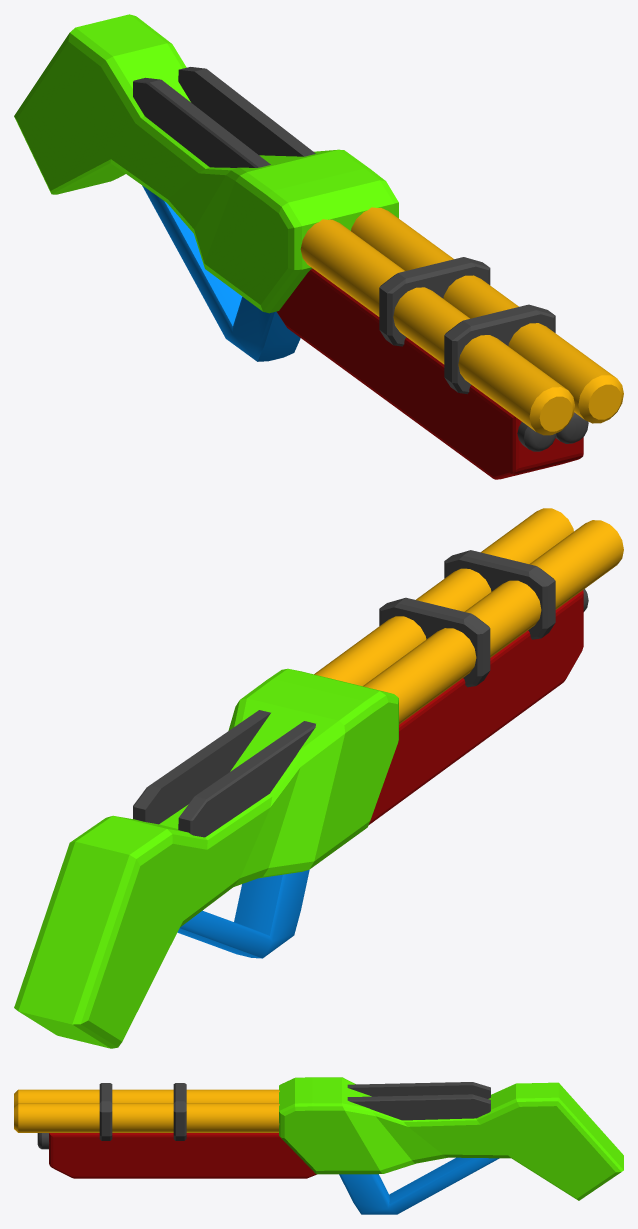
File: shotgoun.fbx
3 views of the same model, one above another, from view 1: azimuth 30°, elevation 25°; view 2: azimuth 150°, elevation 25°; view 3: azimuth 270°, elevation 25° (orthographic). The views are drawn at different scales.
Visible parts, largest first — view 1: Cube.049, Cylinder.012, Cube.051, Cube.053, Cube.050, Cube.052, Cube.055, Cylinder.013; view 2: Cube.049, Cylinder.012, Cube.051, Cube.053, Cube.050, Cube.052, Cube.055; view 3: Cube.049, Cube.051, Cylinder.012, Cube.053, Cube.050, Cube.052, Cube.055.
Boxes of the visible parts, x1,y1,x2,y2 form: Cube.049: [14, 14, 398, 313]; Cylinder.012: [300, 207, 623, 435]; Cube.051: [276, 268, 583, 479]; Cube.053: [133, 67, 315, 167]; Cube.050: [142, 185, 300, 361]; Cube.052: [379, 257, 490, 346]; Cube.055: [444, 304, 555, 394]; Cylinder.013: [517, 412, 588, 451]; Cube.049: [14, 668, 398, 1048]; Cylinder.012: [314, 508, 623, 724]; Cube.051: [368, 590, 583, 825]; Cube.053: [133, 710, 315, 837]; Cube.050: [177, 869, 309, 958]; Cube.052: [379, 597, 490, 687]; Cube.055: [444, 550, 555, 639]; Cube.049: [279, 1077, 623, 1200]; Cube.051: [49, 1133, 316, 1178]; Cylinder.012: [14, 1089, 279, 1132]; Cube.053: [347, 1082, 490, 1120]; Cube.050: [339, 1157, 499, 1214]; Cube.052: [173, 1083, 186, 1140]; Cube.055: [99, 1083, 112, 1140].
Size of the model in its own units: 4.38 by 0.9549 by 0.518.
